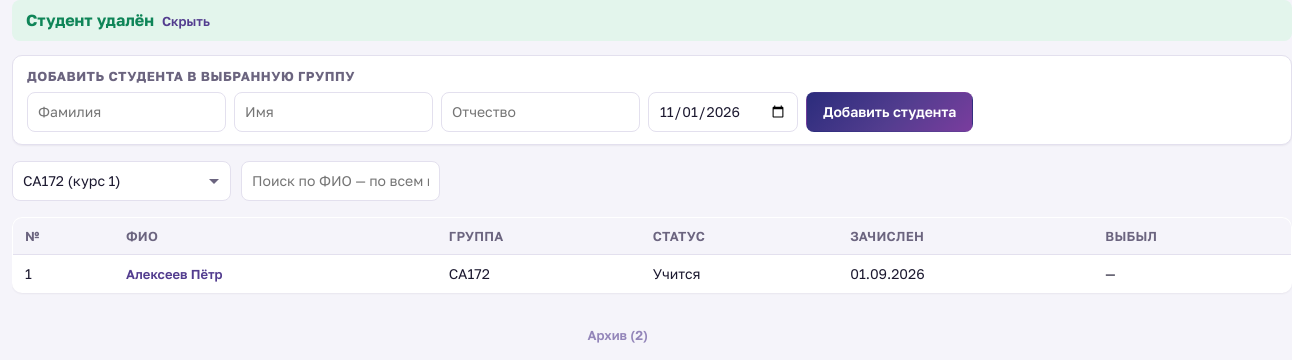
Scenario: StudentsTab › сообщение после удаления студента приходит через состояние перехода и скрывается
Expected: the text "Студент удалён Скрыть" is shown, [12,0,1291,41]
Click the button "Скрыть": {"x": 186, "y": 21} [158,11,214,31]
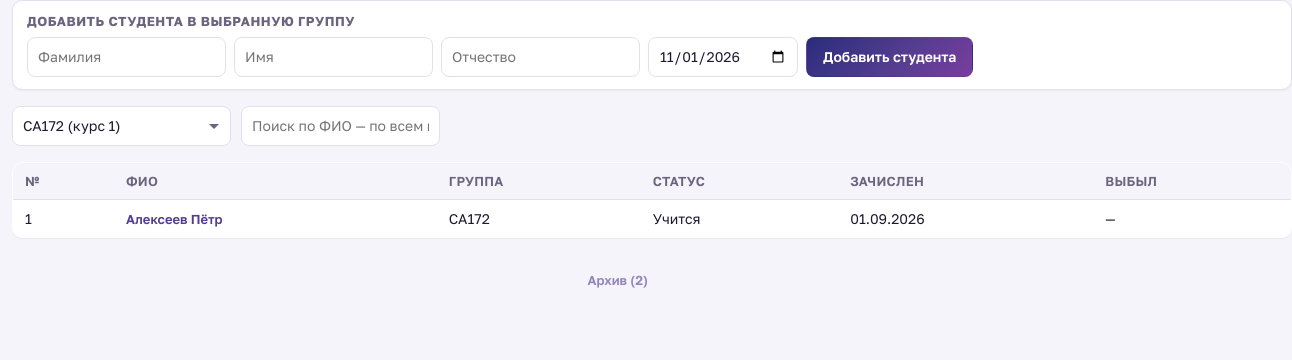
Expected: the text "Студент удалён" is gone
